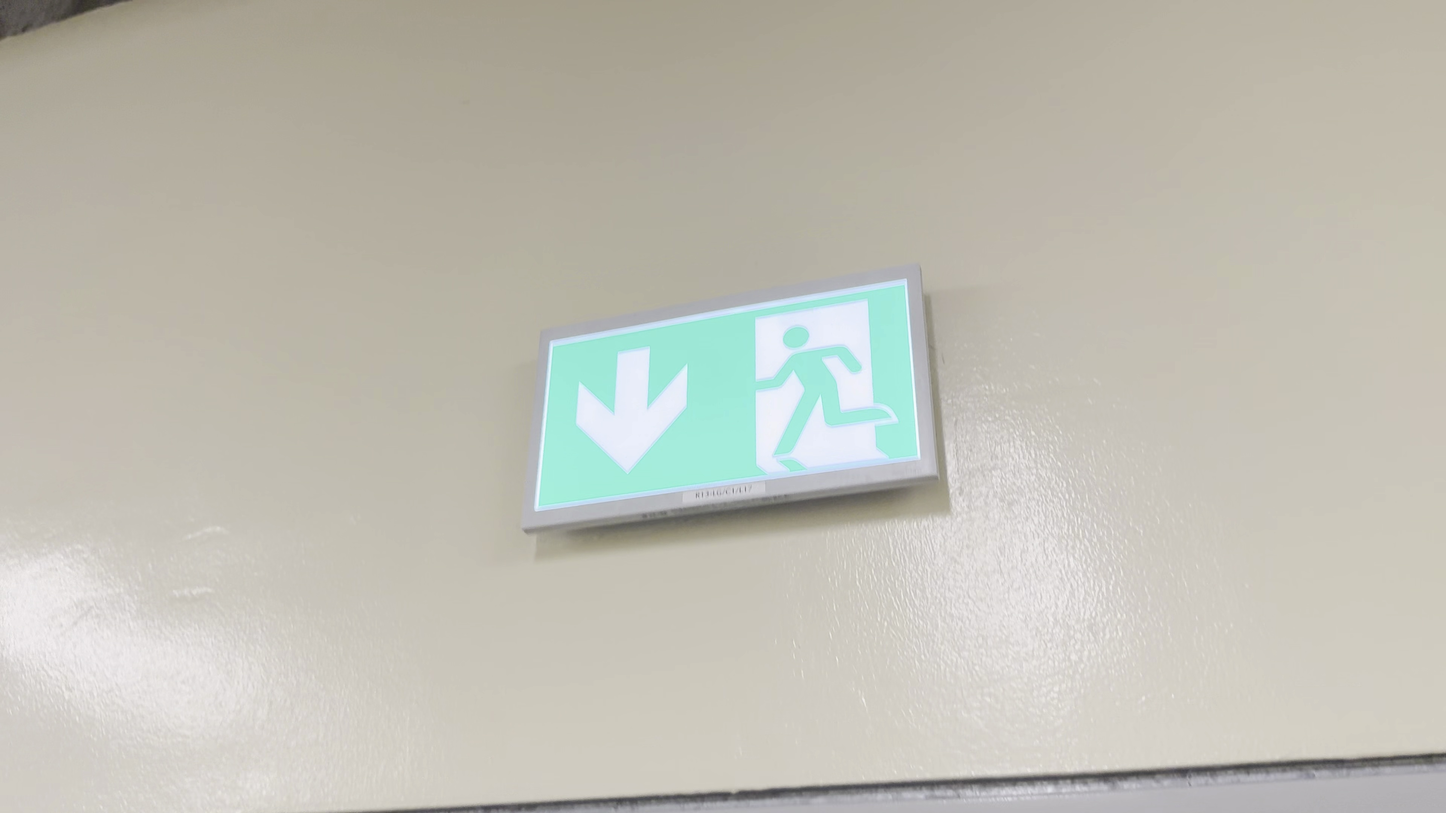emergency_exit: (520, 262, 941, 534)
